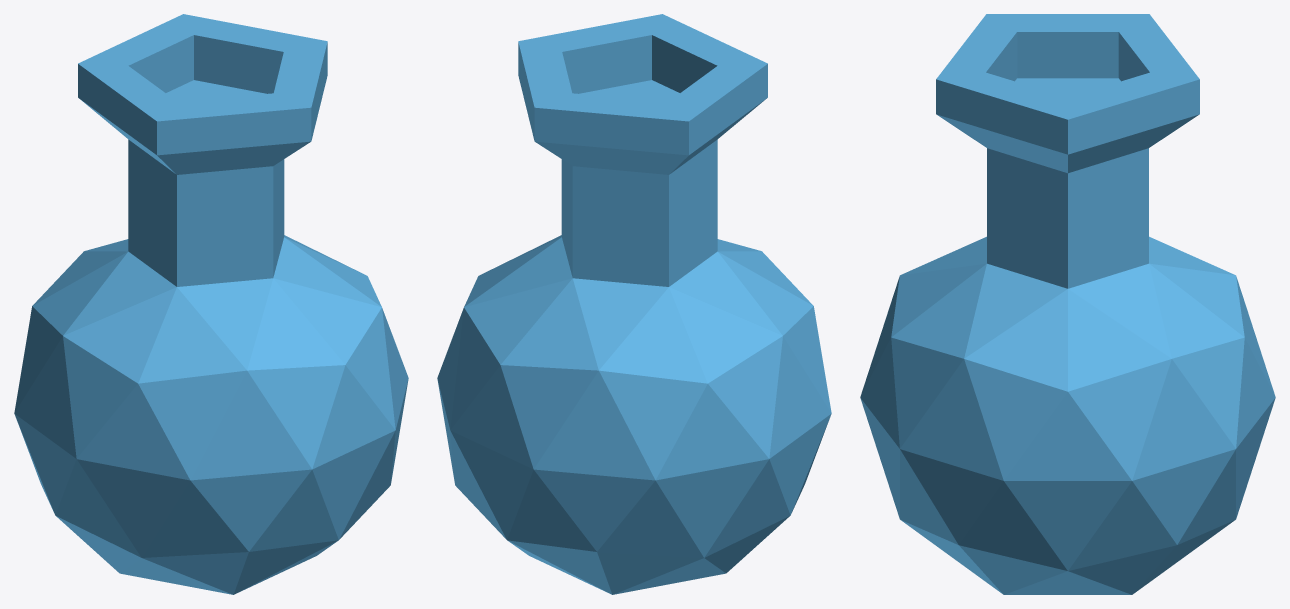
The model's file is honey_bottle.fbx.
The picture shows the model from 3 angles, left to right: view 1: azimuth 30°, elevation 25°; view 2: azimuth 150°, elevation 25°; view 3: azimuth 270°, elevation 25°; orthographic projection. The views are drawn at different scales.
Parts seen in each view (by area): view 1: honeyBottle; view 2: honeyBottle; view 3: honeyBottle.
Part boxes in pixels (<box>): honeyBottle: <box>14,14,408,594</box>; honeyBottle: <box>437,14,831,594</box>; honeyBottle: <box>860,14,1275,594</box>.
Size of the model in its own units: 53.68 by 78.6 by 56.44.
